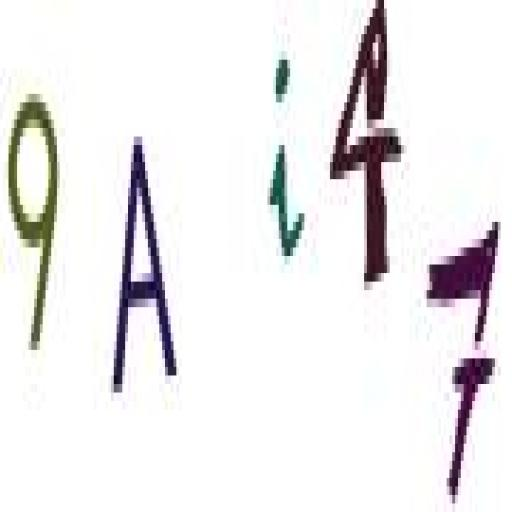4: (322, 0, 406, 293)
7: (419, 219, 502, 509)
9: (5, 81, 65, 363)
A: (107, 116, 180, 415)
i: (262, 50, 312, 278)
